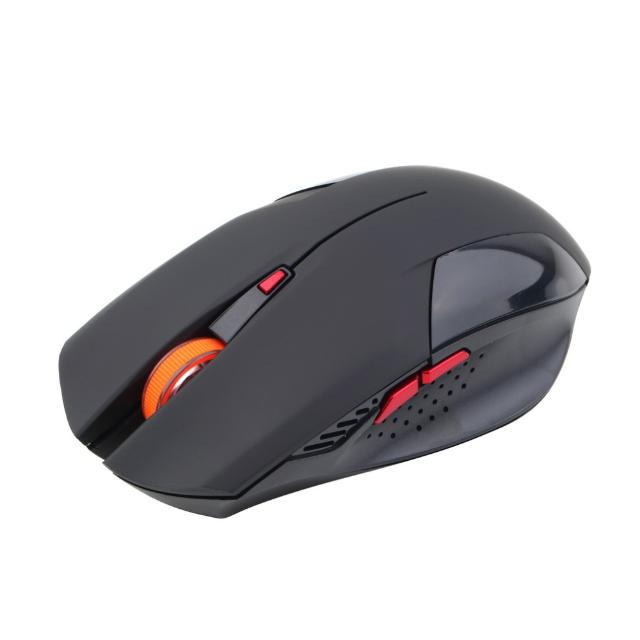Computer-Mouse: (57, 166, 592, 522)
